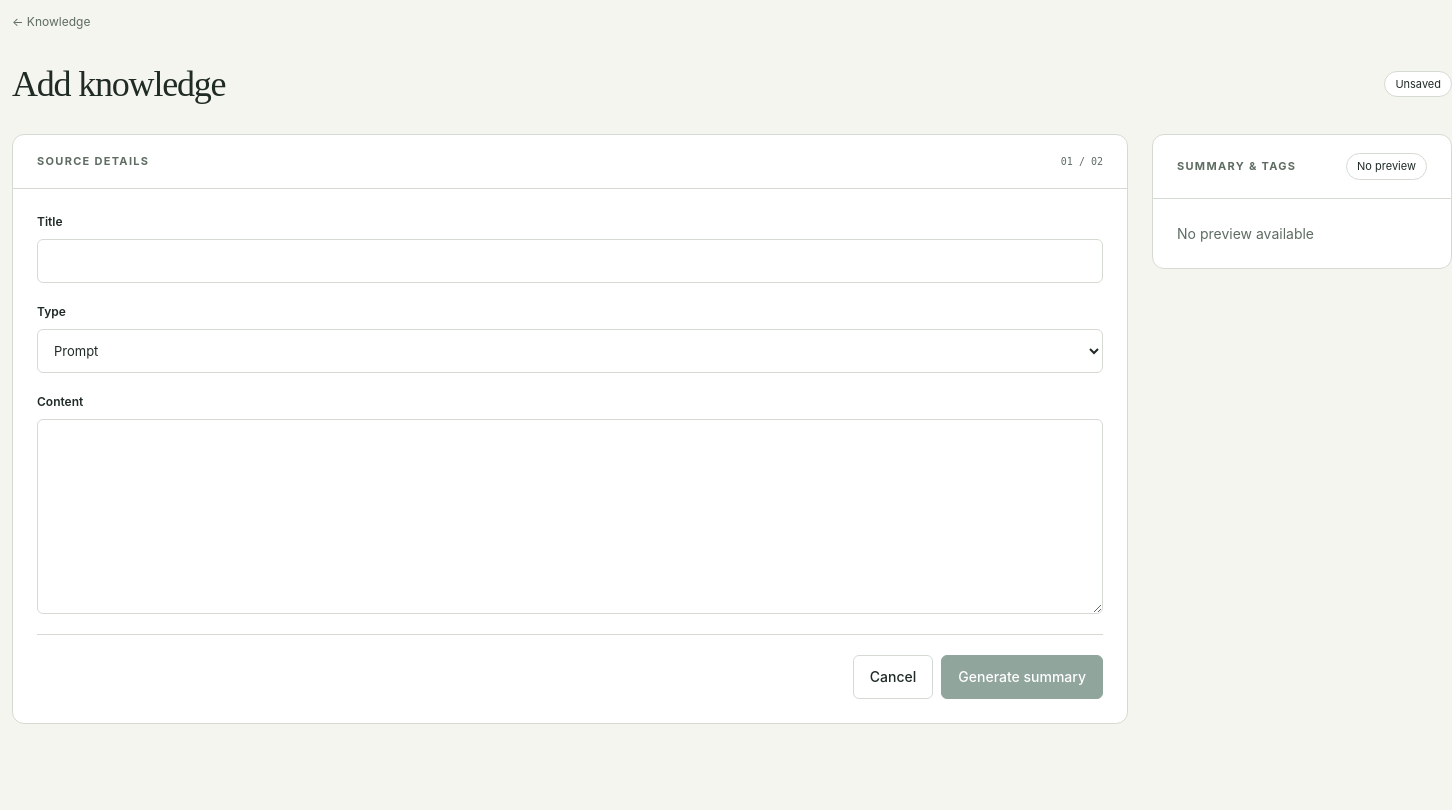
knowledge API journeys › does not fabricate a preview or save action after provider failure
Type "Guide" into the field labelled "Title" at (570, 261), box [37,239,1103,283]
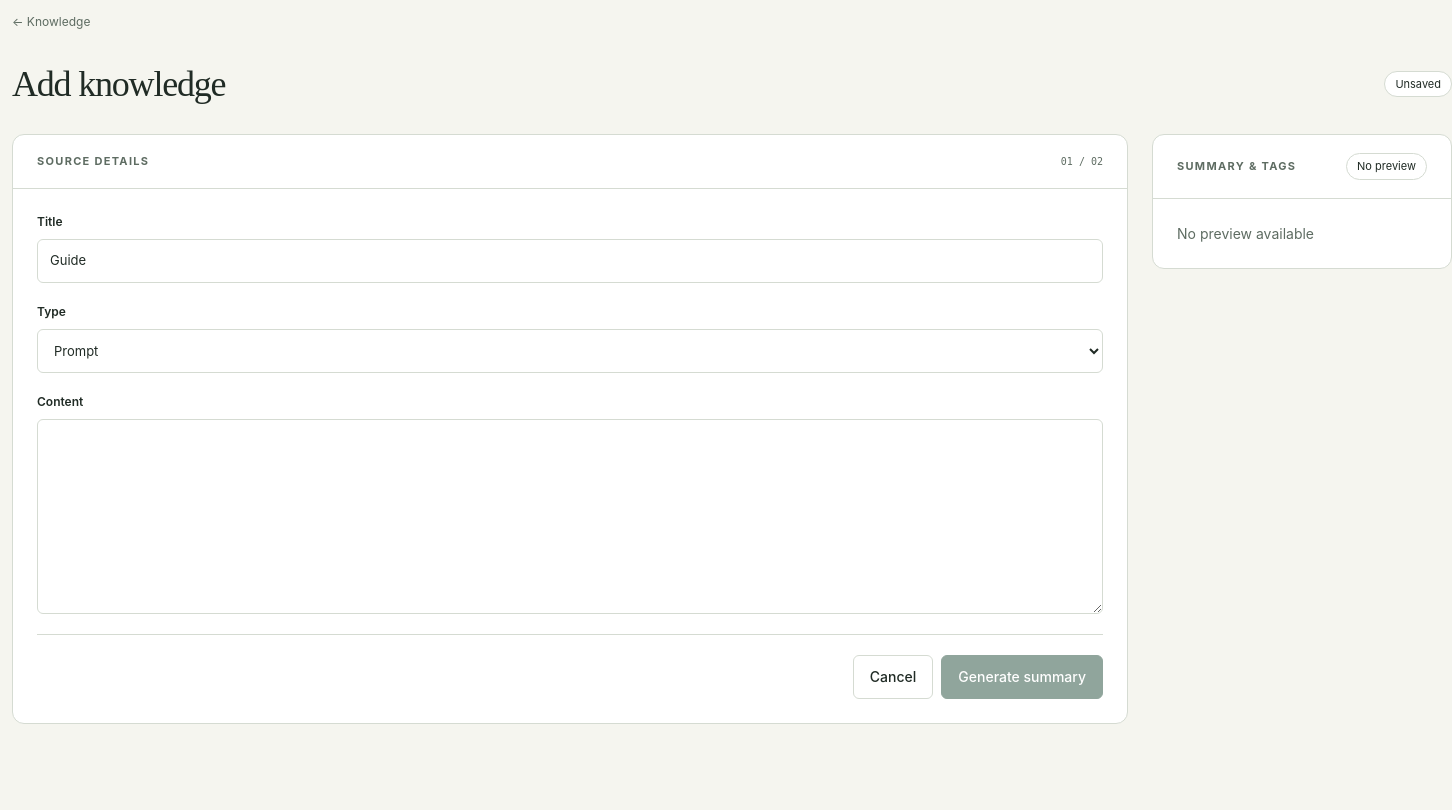
Type "Evidence" into the text box labelled "Content" at (570, 516), box [37,419,1103,614]
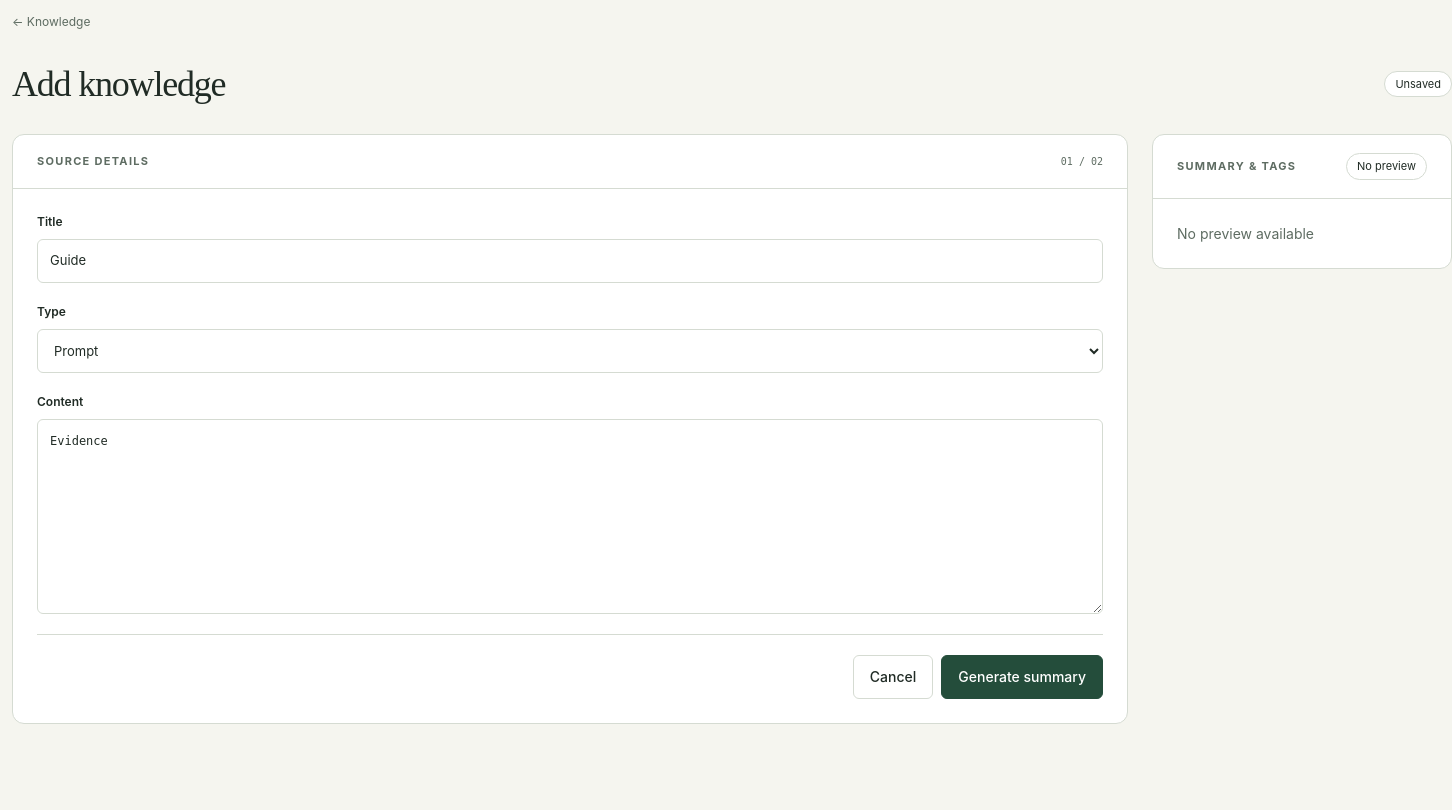
Click the button "Generate summary" at (1022, 677), box [941,655,1103,699]
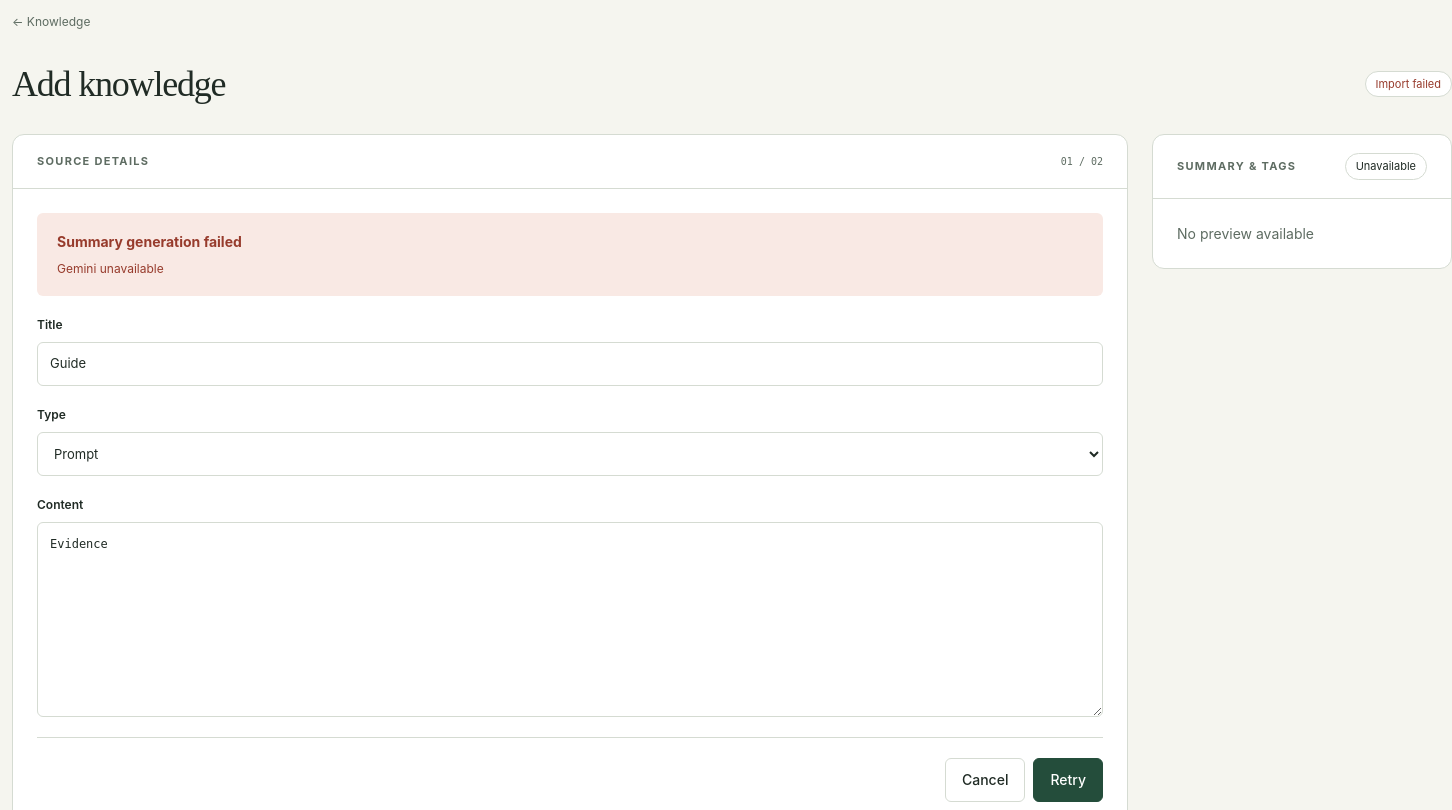
expect the button "Retry" is enabled: met, box [1033,758,1103,802]
expect the message "Summary generation failed Gemini unavailable" is shown: met, box [37,213,1103,296]
